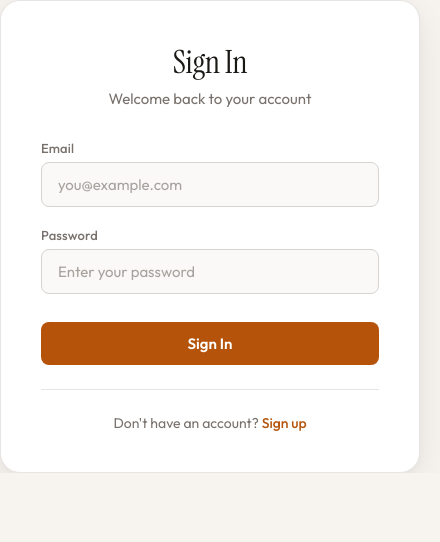
SignInPage › displays error message when login fails with AppError
This screenshot has width=440, height=542.
In the field labelled "Email": [210, 184] box x1=41 y1=162 x2=379 y2=207, type "a@b.com"
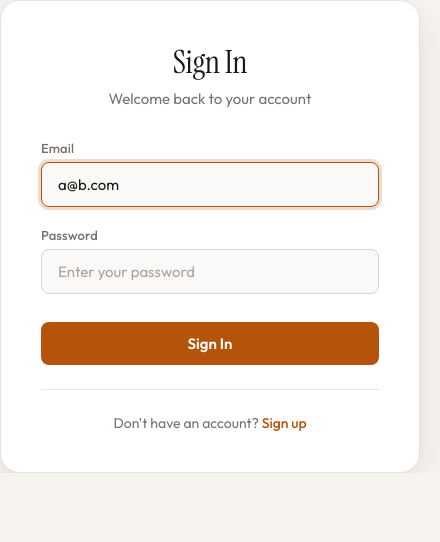
In the password field labelled "Password": [210, 272] box x1=41 y1=249 x2=379 y2=294, type "wrong"
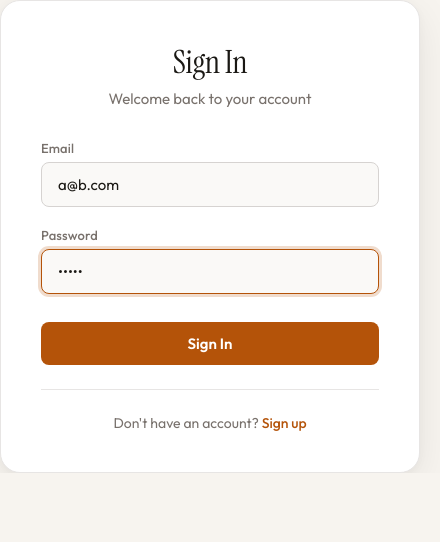
Click the button "Sign In": [210, 344] box x1=41 y1=322 x2=379 y2=365
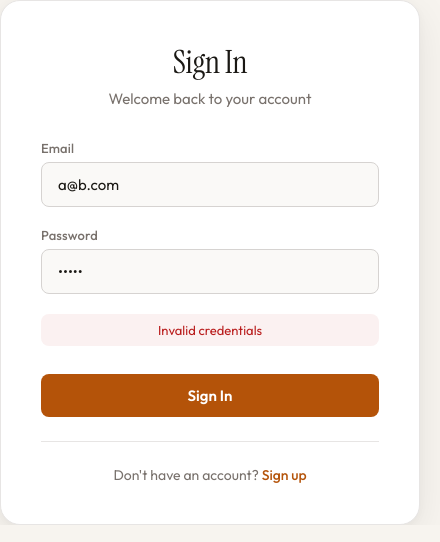
Check: the text "Invalid credentials" is shown, box x1=41 y1=314 x2=379 y2=346
